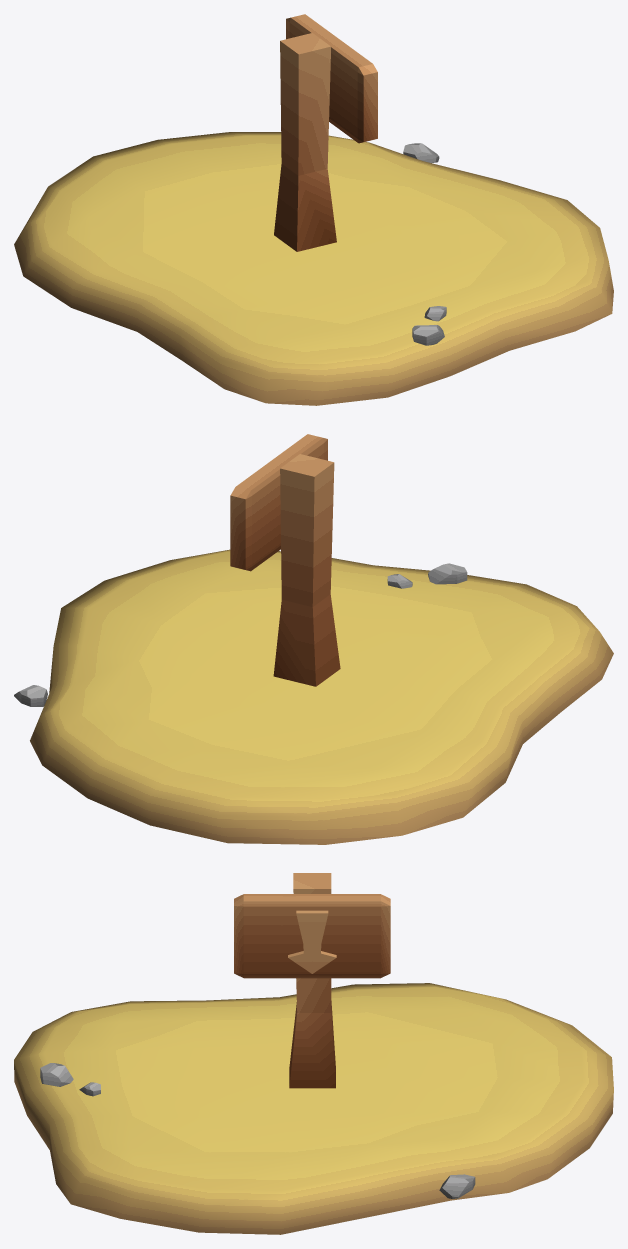
File: Stand (2).fbx
3 renders of one model, top to bottom at view 1: azimuth 30°, elevation 25°; view 2: azimuth 150°, elevation 25°; view 3: azimuth 270°, elevation 25°, orthographic. The views are drawn at different scales.
Visible parts, largest first — view 1: Stand, Pointer; view 2: Stand, Pointer; view 3: Stand, Pointer.
Boxes of the visible parts, x1=… form: Stand: x1=14, y1=132, x2=613, y2=405; Pointer: x1=274, y1=14, x2=377, y2=251; Stand: x1=14, y1=549, x2=613, y2=844; Pointer: x1=230, y1=434, x2=340, y2=686; Stand: x1=14, y1=983, x2=613, y2=1234; Pointer: x1=234, y1=873, x2=390, y2=1088.
Bounding box in the file's own units: 109 × 51.87 × 121.
